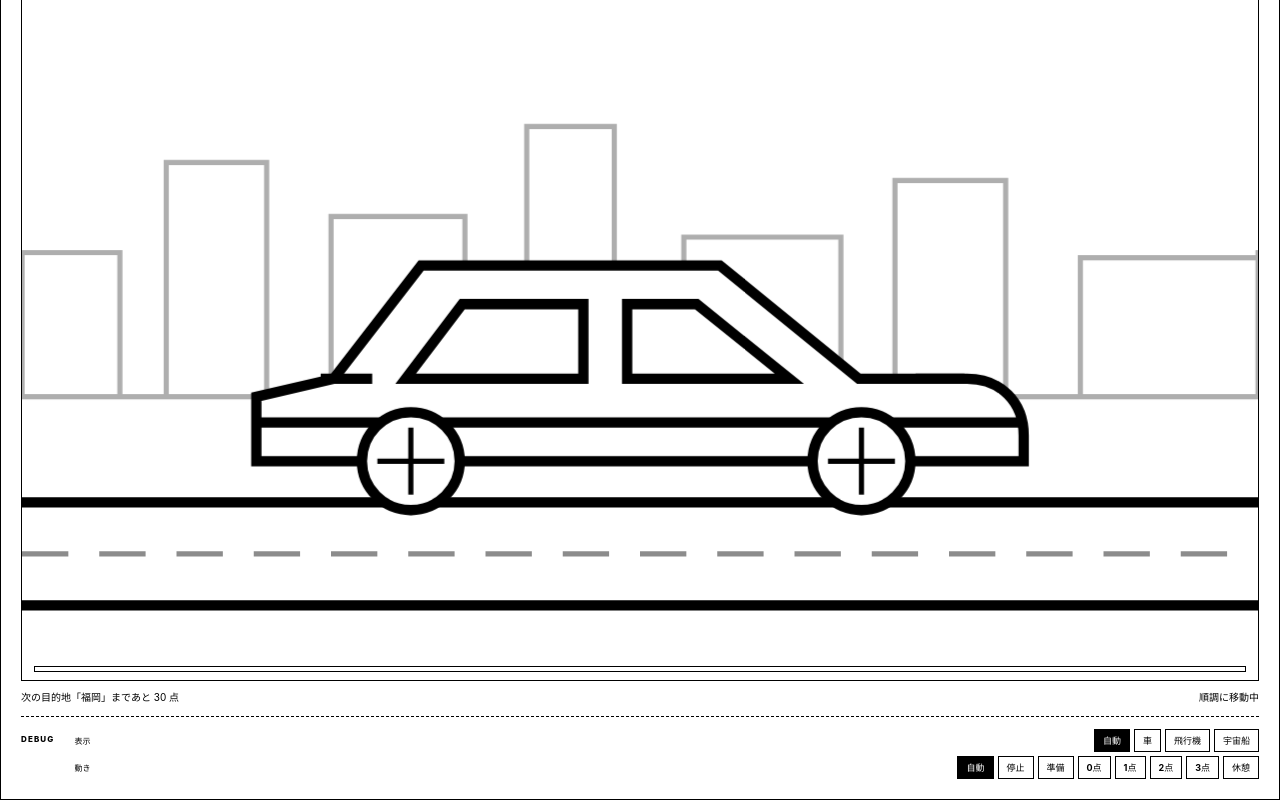
it: ScoreJourney › デバッグボタンで動きの状態と案内文を切り替えられる
This screenshot has width=1280, height=800.
(page scrolled)
Click the button "3点" at point(1203, 768), box 1186,756 -> 1219,779
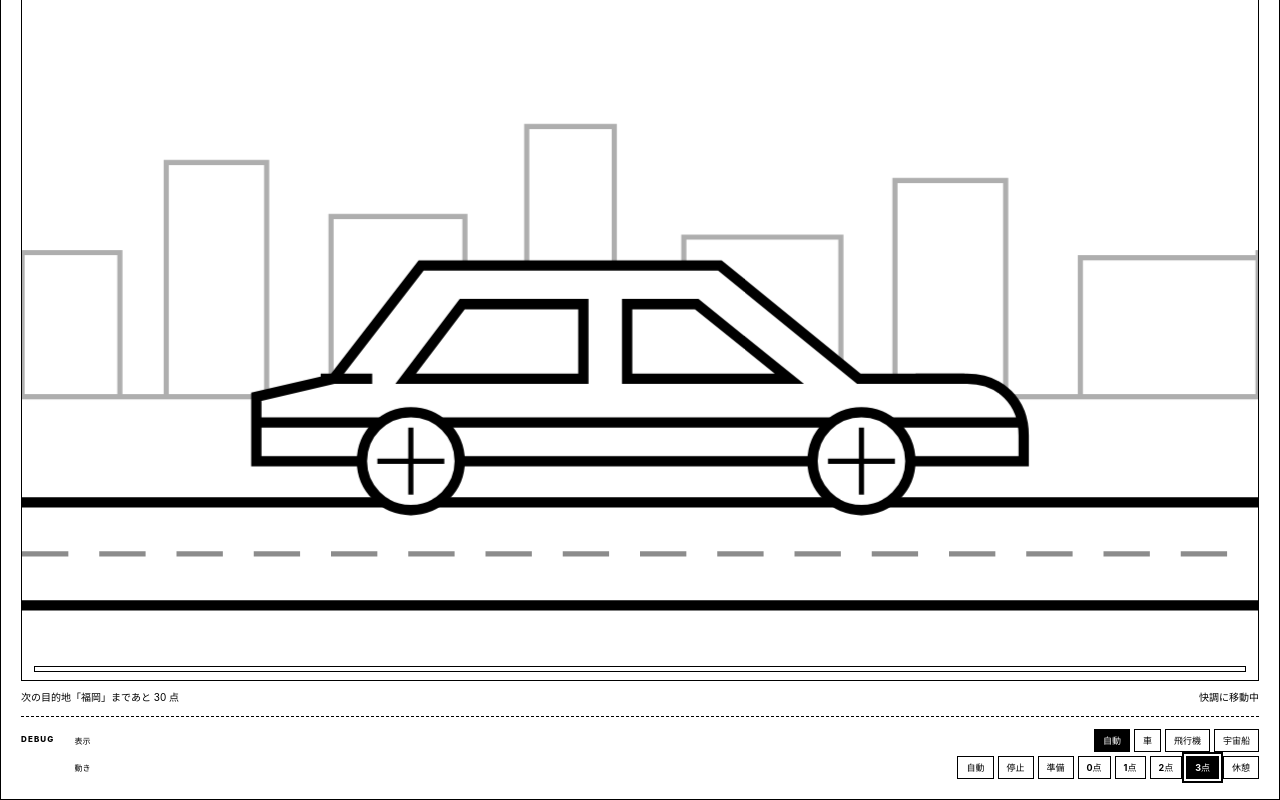
Expected: the text "快調に移動中" is shown, 1199,689 -> 1259,704
Click the button "停止" at point(1016, 768), box 998,756 -> 1034,779
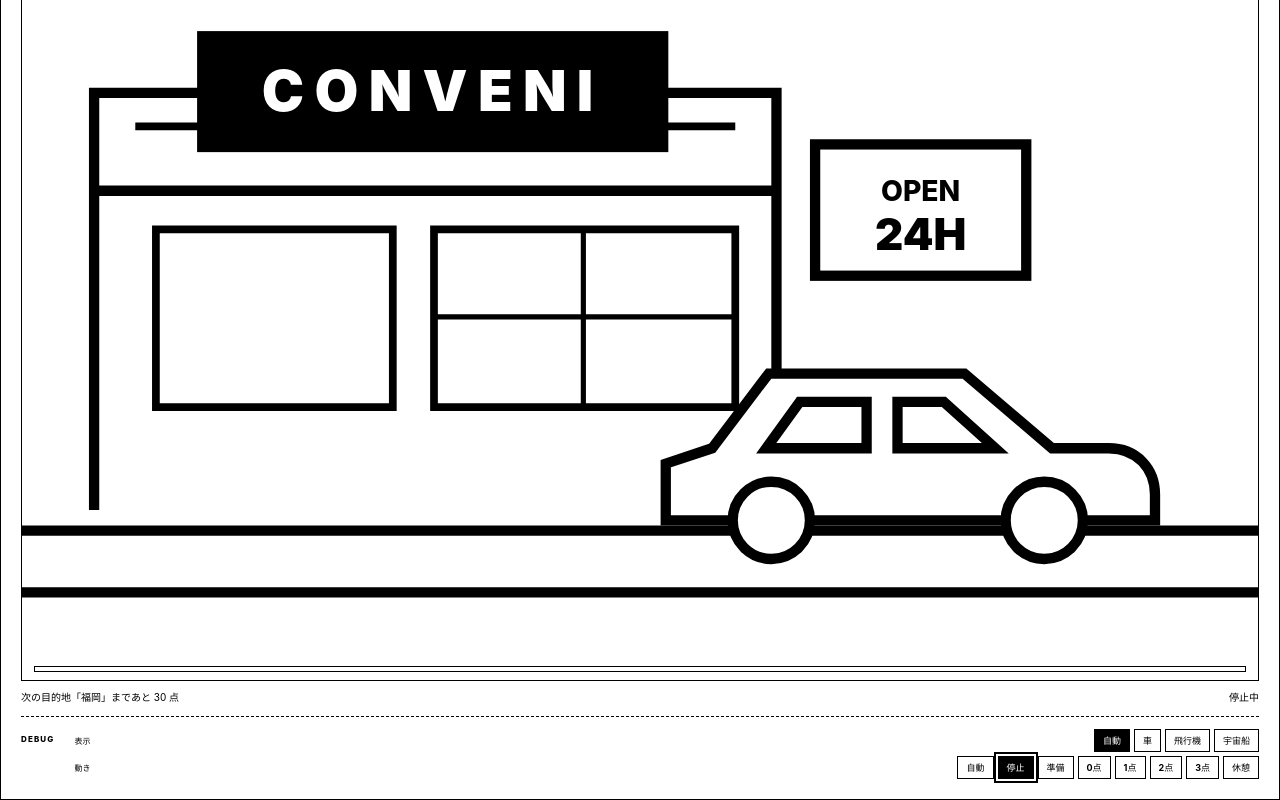
Expected: the text "停止中" is shown, 1229,689 -> 1259,704
Click the button with aria-label "動きを自動" at point(976, 768), box 958,756 -> 994,779
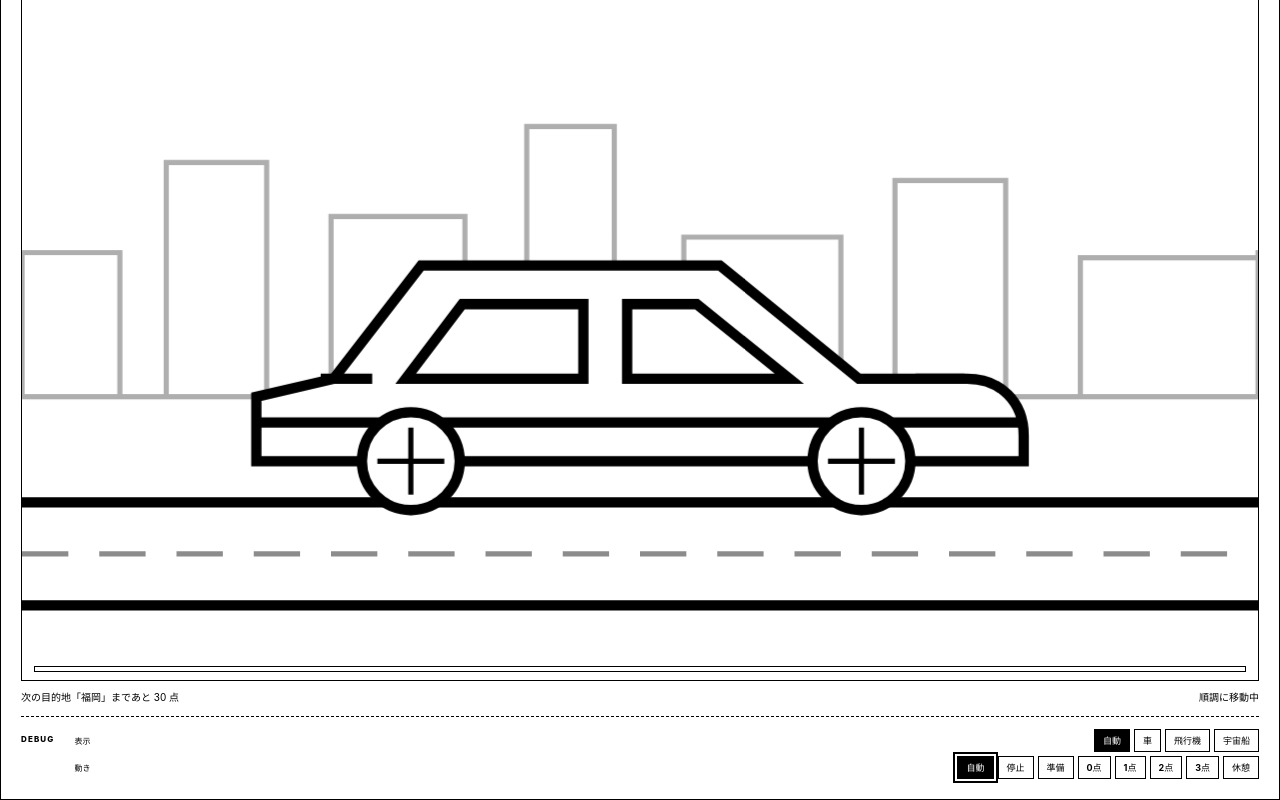
Expected: the text "順調に移動中" is shown, 1199,689 -> 1259,704
